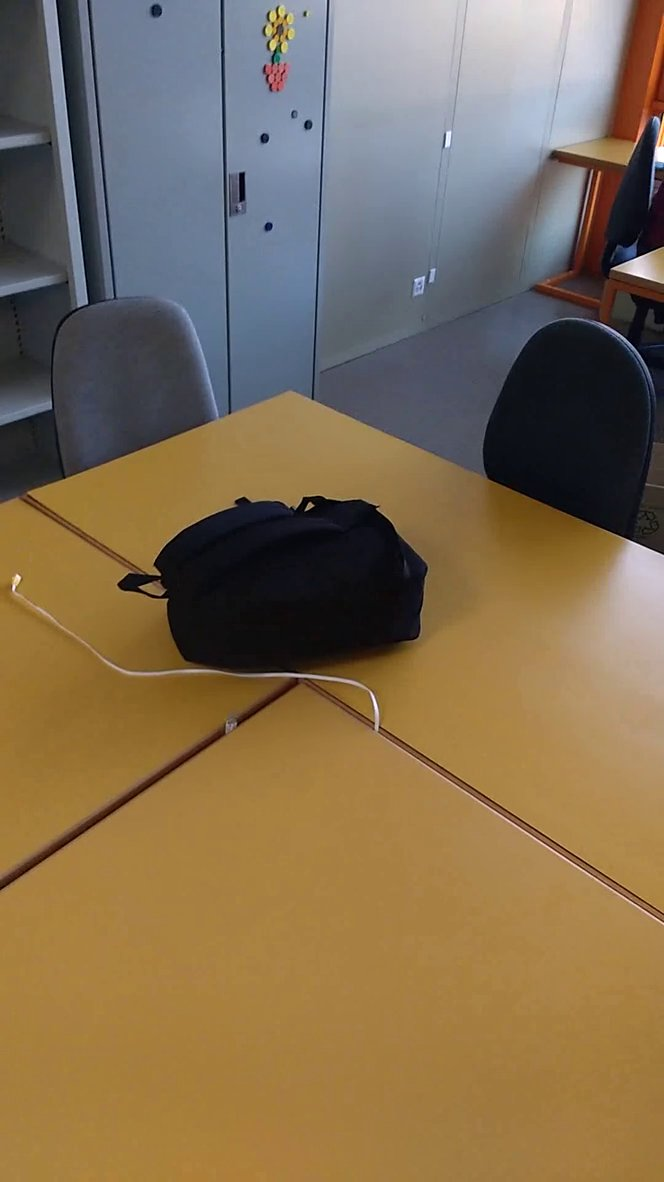bag: (118, 487, 446, 680)
chair: (466, 306, 658, 564), (42, 285, 236, 485)
